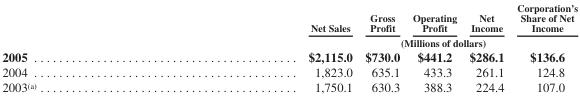table: (1, 1, 577, 94)
table column: (172, 1, 358, 94), (1, 1, 172, 94), (509, 1, 577, 94), (405, 1, 462, 94), (358, 1, 405, 94), (462, 1, 509, 94)
table column header: (1, 1, 577, 48)
table row: (1, 1, 577, 34), (1, 48, 577, 64), (1, 64, 577, 79), (1, 79, 577, 94), (1, 34, 577, 48)
table spanning cell: (172, 34, 577, 48)
